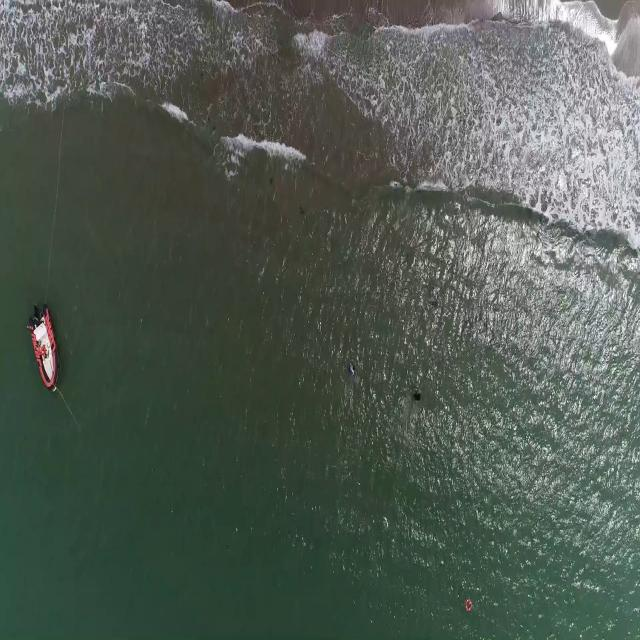boat: (29, 305, 59, 393)
life_buoy: (465, 598, 473, 612)
person: (412, 384, 423, 404), (348, 358, 358, 379)
